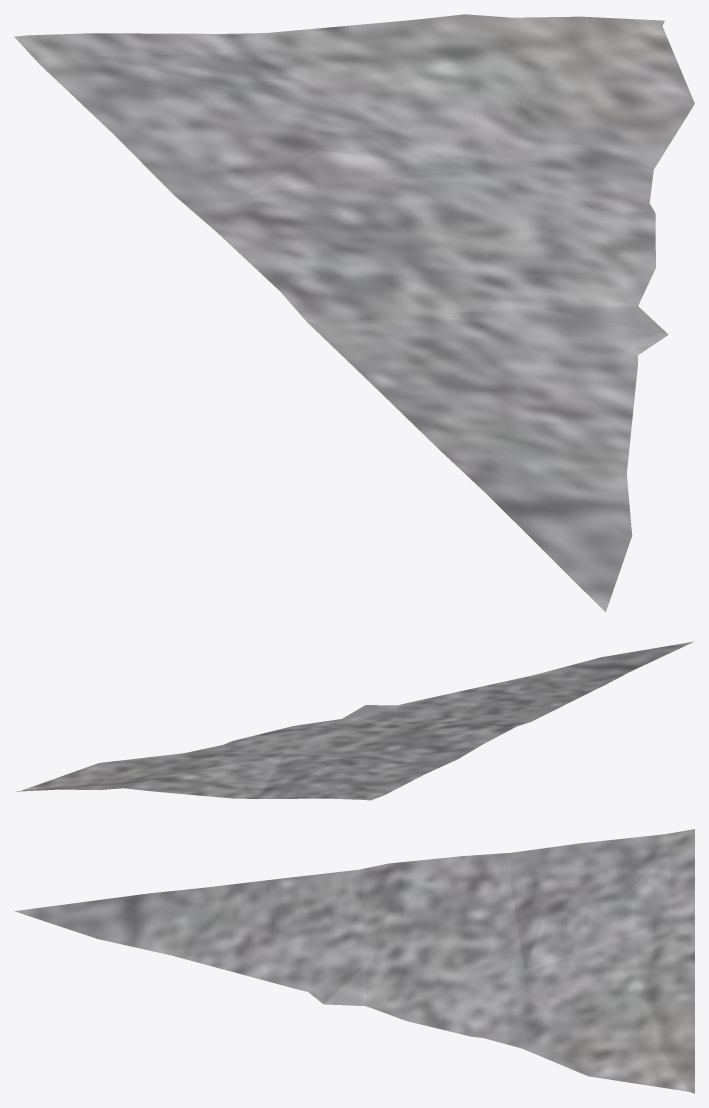
3 views of the same model, one above another, from view 1: azimuth 30°, elevation 25°; view 2: azimuth 150°, elevation 25°; view 3: azimuth 270°, elevation 25° (orthographic). The views are drawn at different scales.
Bounding box in the file's own units: 0.6577 × 0.1379 × 1.04.
Materials: 1 (1 with a texture image).
